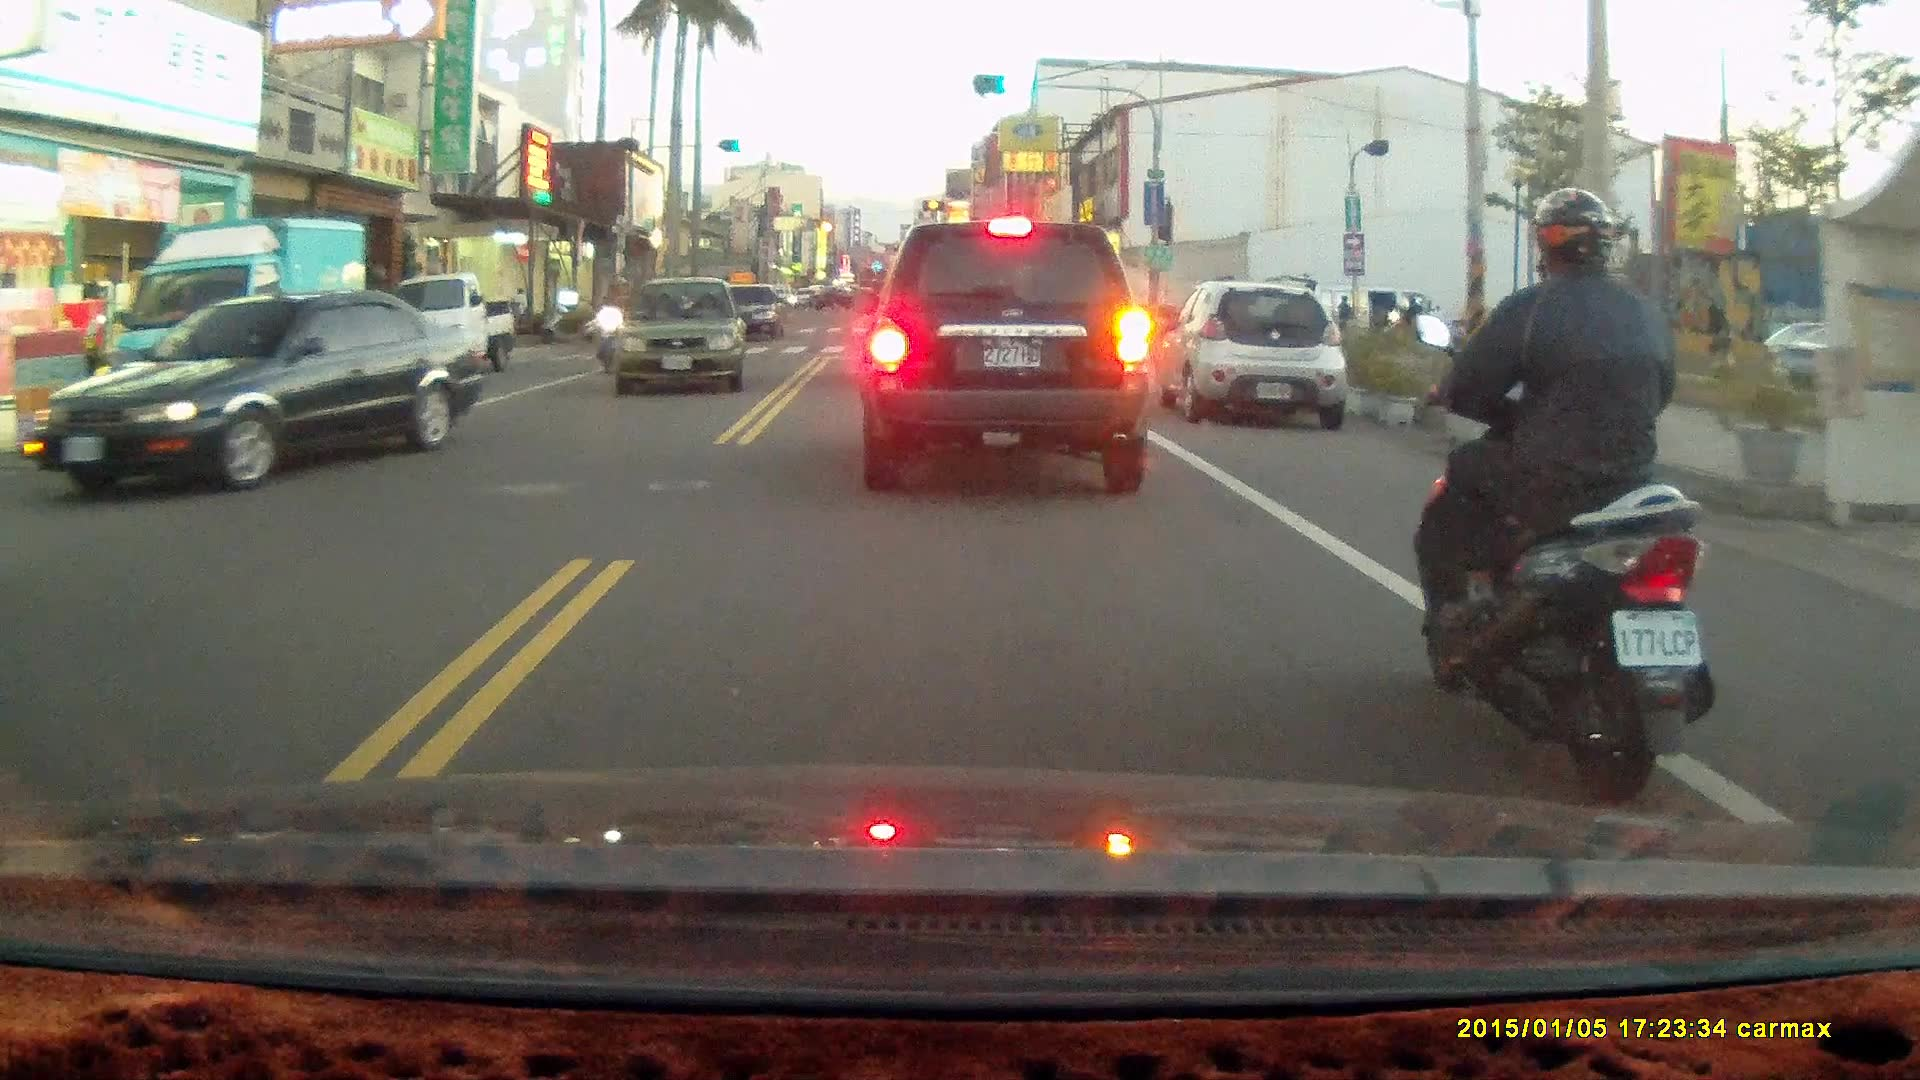rider: (1411, 188, 1718, 813), (590, 278, 639, 374)
vehicle: (23, 292, 479, 496), (858, 223, 1152, 502), (110, 218, 373, 433), (1166, 286, 1349, 440), (610, 276, 748, 403), (386, 272, 518, 383)
